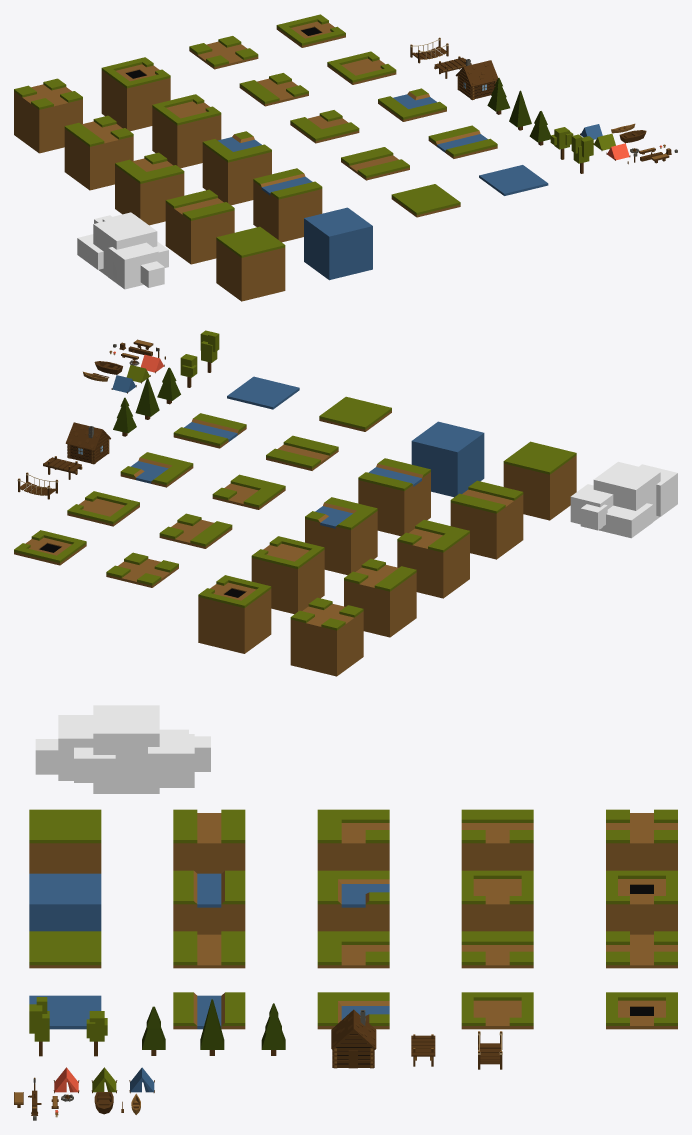
3 views of the same model, one above another, from view 1: azimuth 30°, elevation 25°; view 2: azimuth 150°, elevation 25°; view 3: azimuth 270°, elevation 25° (orthographic). The views are drawn at different scales.
Parts seen in each view (by area): view 1: Cloud, ForestEmptyCube, ForestLakeCube, ForestStraightCube, ForestCrossingCube_02, ForestEndCube, ForestRiverStraightCube, ForestStartCube, ForestCrossingCube_01, ForestRiverCurveCube, ForestCurveCube, ForestEmpty (+16 smaller); view 2: Cloud, ForestEndCube, ForestCrossingCube_01, ForestStraightCube, ForestCurveCube, ForestEmptyCube, ForestCrossingCube_02, ForestStartCube, ForestRiverStraightCube, ForestRiverCurveCube, ForestLakeCube, ForestEmpty (+12 smaller); view 3: Cloud, ForestEmptyCube, ForestEndCube, ForestCrossingCube_02, ForestCurveCube, ForestRiverCurveCube, ForestStartCube, ForestStraightCube, ForestRiverStraightCube, ForestCrossingCube_01, ForestLakeCube, ForestCrossing_02 (+17 smaller).
Part boxes in pixels (x1,y1,x2,y2): Cloud: (77,212,168,289); ForestEmptyCube: (216,226,285,301); ForestLakeCube: (304,207,372,280); ForestStraightCube: (165,189,234,264); ForestCrossingCube_02: (64,115,133,190); ForestEndCube: (101,57,170,131); ForestRiverStraightCube: (253,168,322,242); ForestStartCube: (152,94,221,168); ForestCrossingCube_01: (14,78,82,153); ForestRiverCurveCube: (202,131,271,205); ForestCurveCube: (115,152,184,225); ForestEmpty: (391,184,460,217); Cloud: (570,461,677,538); ForestEndCube: (198,575,271,653); ForestCrossingCube_01: (290,597,363,676); ForestStraightCube: (450,480,523,559); ForestCurveCube: (397,519,469,598); ForestEmptyCube: (503,441,576,520); ForestCrossingCube_02: (344,558,416,637); ForestStartCube: (251,536,324,614); ForestRiverStraightCube: (358,458,430,536); ForestRiverCurveCube: (305,497,377,575); ForestLakeCube: (411,421,484,497); ForestEmpty: (319,396,391,431); Cloud: (35,705,210,793); ForestEmptyCube: (29,809,101,873); ForestEndCube: (606,870,677,934); ForestCrossingCube_02: (461,809,533,870); ForestCurveCube: (317,809,389,870); ForestRiverCurveCube: (317,870,389,931); ForestStartCube: (461,870,533,931); ForestStraightCube: (173,809,245,873); ForestRiverStraightCube: (173,870,245,934); ForestCrossingCube_01: (606,809,677,870); ForestLakeCube: (29,873,101,931); ForestCrossing_02: (461,931,533,968).
Bounding box in the file's own units: 12.46 × 1.74 × 9.21.
Materials: 2 (1 with a texture image).
